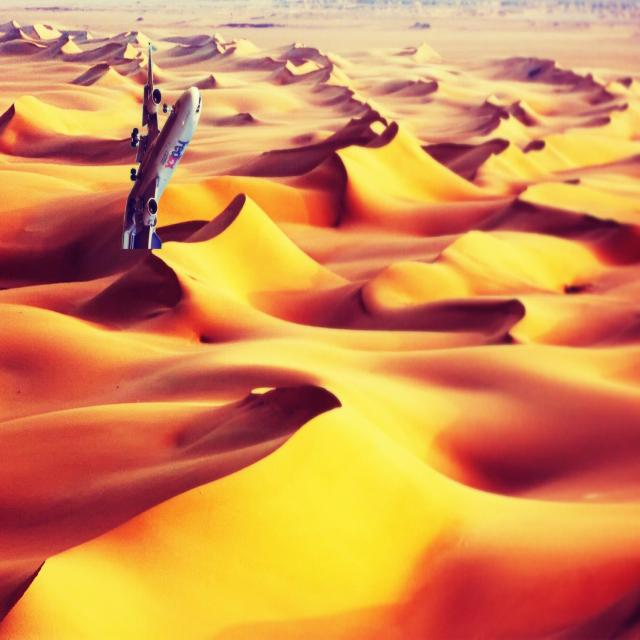airplane: (121, 41, 202, 251)
